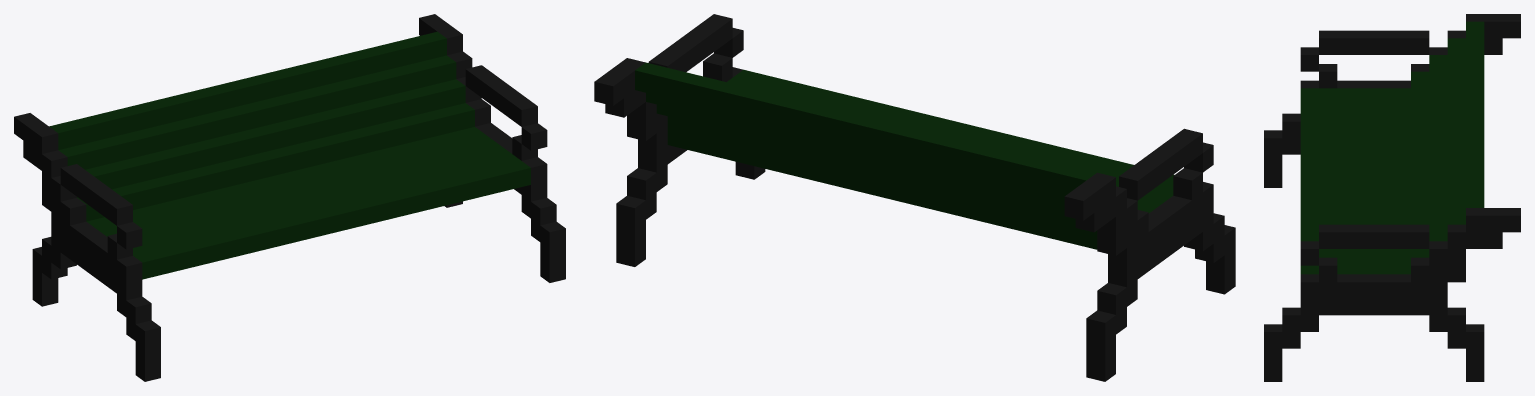
File: Trainvasion Moterman-0-Bench.obj
3 renders of one model, left to right at view 1: azimuth 30°, elevation 25°; view 2: azimuth 150°, elevation 25°; view 3: azimuth 270°, elevation 25°, orthographic. The views are drawn at different scales.
Visible parts, largest first — view 1: Bench; view 2: Bench; view 3: Bench.
Part boxes in pixels (x1,y1,x2,y2): Bench: (14,14,565,381); Bench: (594,14,1235,381); Bench: (1264,14,1520,381).
Size of the model in its own units: 2.6 by 1 by 1.4.
1 material, 1 textured.
